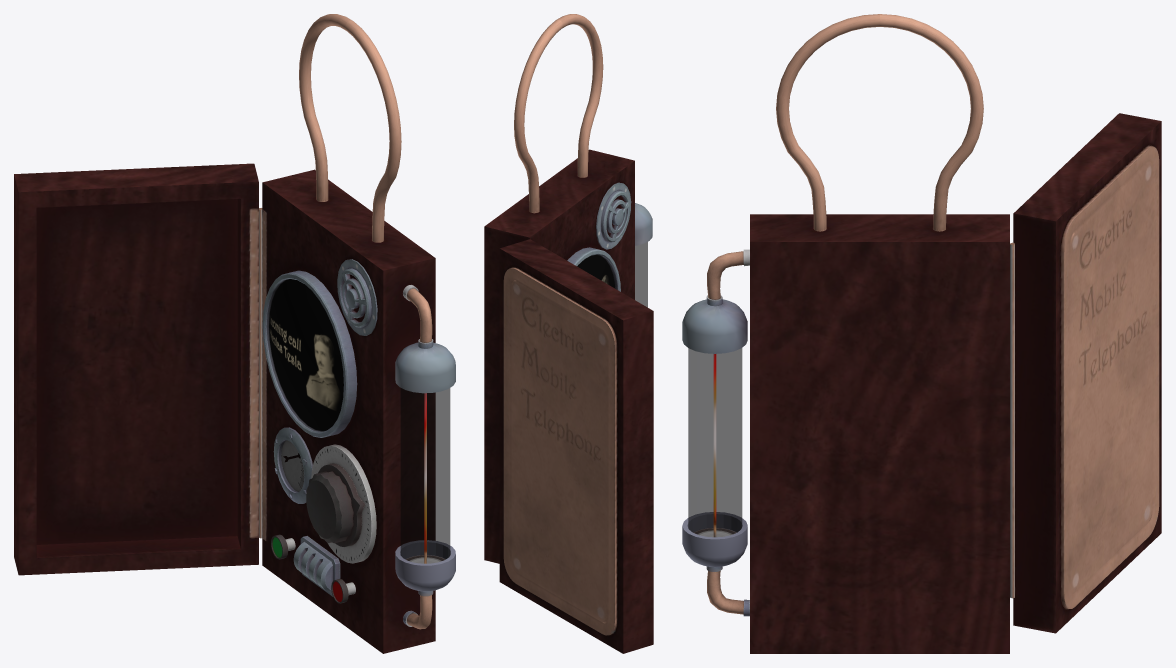
3 renders of one model, left to right at view 1: azimuth 30°, elevation 25°; view 2: azimuth 150°, elevation 25°; view 3: azimuth 270°, elevation 25°, orthographic. The views are drawn at different scales.
Parts seen in each view (by area): view 1: pCube3, Glass; view 2: pCube3, Glass; view 3: pCube3, Glass.
Part boxes in pixels (box(x1,y1,x2,y2)): pCube3: box(14, 14, 455, 653); Glass: box(267, 279, 450, 563); pCube3: box(484, 14, 653, 653); Glass: box(577, 242, 647, 307); pCube3: box(682, 14, 1161, 653); Glass: box(688, 348, 742, 536).
Bounding box in the file's own units: 4.69 × 10.64 × 7.38.
Materials: 2 (1 with a texture image).
